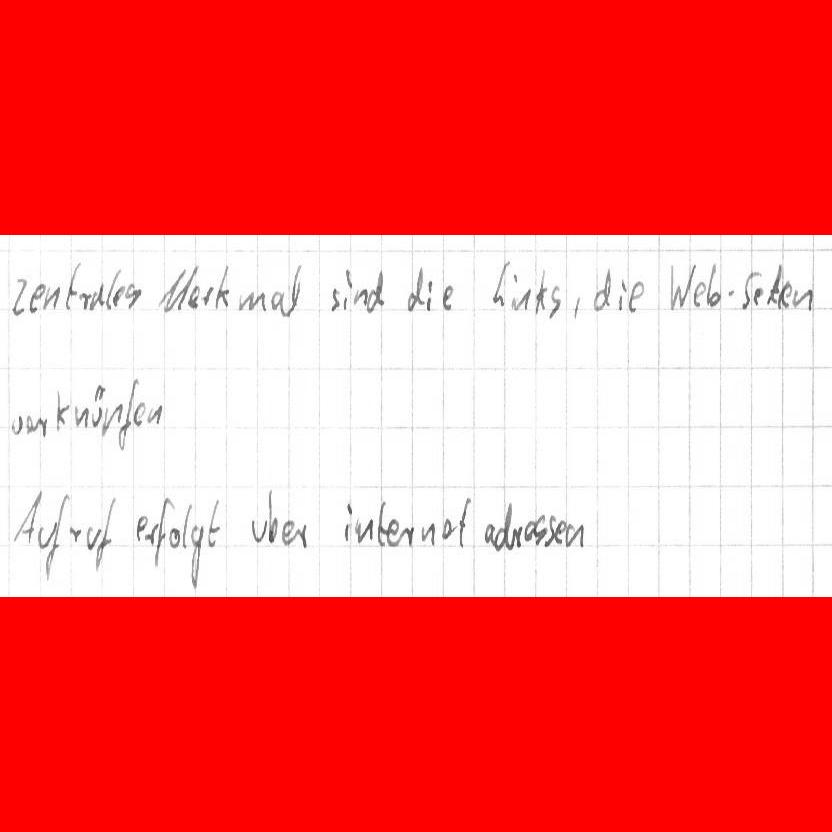Char: (157, 264, 197, 312), (96, 496, 118, 572), (11, 490, 40, 546), (152, 496, 174, 568), (669, 262, 693, 309), (283, 262, 302, 317), (591, 266, 612, 314), (190, 523, 205, 588), (494, 502, 513, 552), (205, 495, 222, 548), (365, 269, 385, 314), (490, 259, 508, 308), (112, 399, 130, 448), (65, 261, 81, 310), (456, 497, 472, 545), (406, 266, 421, 313), (767, 260, 781, 309), (216, 265, 232, 307), (237, 289, 266, 312), (54, 390, 70, 431), (105, 267, 120, 310), (706, 262, 720, 307), (36, 519, 57, 549), (12, 278, 29, 315), (792, 284, 815, 311), (563, 520, 584, 549), (130, 385, 144, 427), (377, 502, 389, 549), (91, 385, 104, 428), (124, 281, 142, 311), (267, 492, 278, 541), (628, 280, 644, 313), (536, 270, 548, 314), (40, 285, 61, 310), (181, 503, 192, 550), (548, 284, 563, 318), (29, 283, 45, 314), (343, 501, 354, 543), (533, 513, 547, 546), (342, 269, 353, 310), (544, 513, 557, 547), (740, 274, 753, 308), (144, 402, 163, 425), (89, 282, 104, 311), (31, 413, 49, 436), (513, 288, 531, 311), (386, 518, 400, 547), (440, 283, 455, 310), (420, 521, 435, 547), (268, 289, 283, 315), (280, 520, 295, 546), (186, 284, 201, 310), (423, 276, 434, 311), (251, 518, 266, 543), (693, 282, 706, 310), (616, 279, 627, 312), (358, 518, 373, 542), (10, 413, 27, 434), (295, 522, 308, 549), (86, 525, 100, 550), (780, 284, 793, 310), (440, 519, 453, 543), (554, 518, 566, 544), (329, 285, 341, 311), (136, 516, 148, 541), (572, 294, 584, 319), (73, 407, 88, 427), (168, 526, 180, 551), (70, 521, 83, 544), (522, 518, 534, 542), (352, 287, 368, 305), (145, 522, 158, 544), (112, 285, 125, 307), (725, 286, 738, 307), (200, 285, 213, 306), (510, 273, 517, 311), (403, 526, 415, 548), (512, 525, 523, 548), (485, 521, 495, 545), (78, 292, 91, 310), (753, 286, 764, 306)
